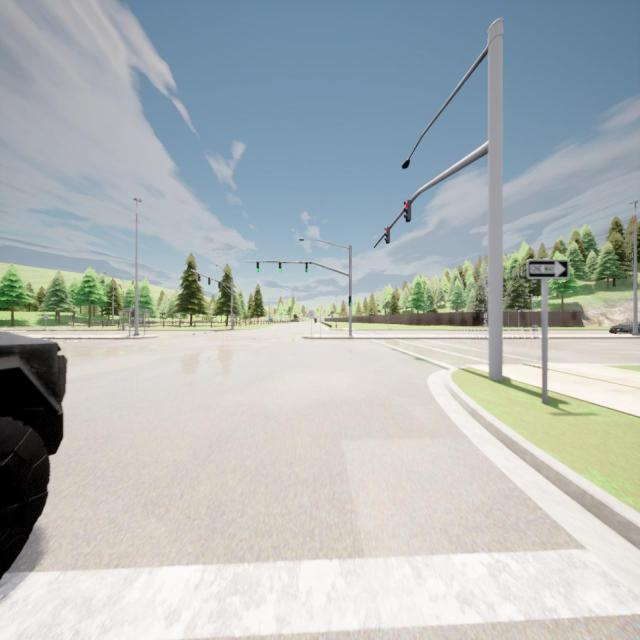Traffic_Signs: (526, 260, 568, 278), (309, 310, 314, 319), (43, 314, 48, 321)
Vehicle: (0, 332, 66, 577), (610, 318, 640, 336)
traffic_light: (404, 200, 411, 222), (384, 226, 390, 244), (278, 262, 282, 272), (256, 262, 259, 272), (305, 263, 308, 272), (349, 296, 351, 306), (198, 274, 200, 282), (208, 278, 210, 285), (218, 282, 220, 288)
